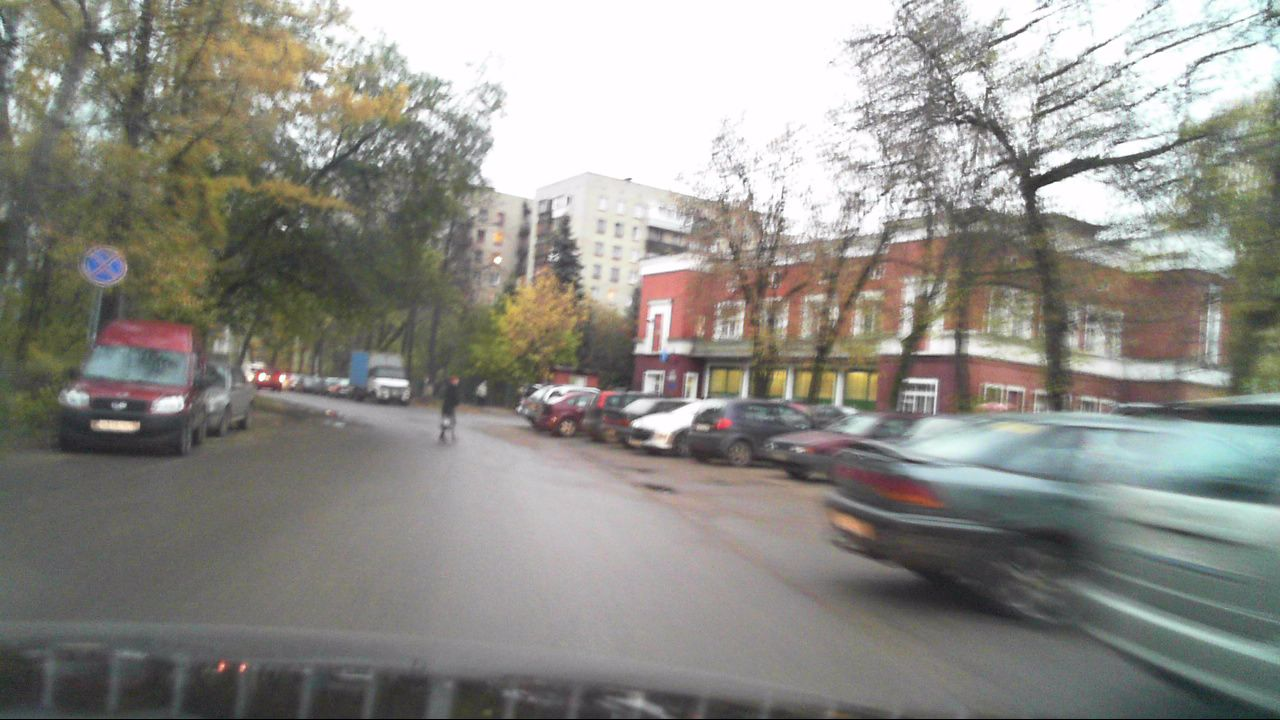No Parking: (82, 245, 126, 289)
